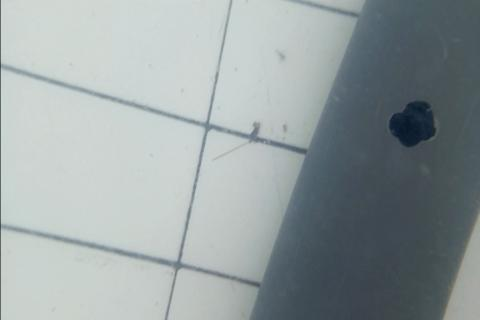kebocoran: (388, 99, 437, 150)
